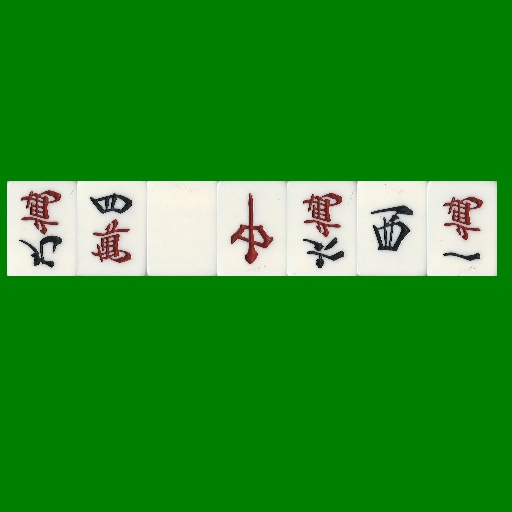1m: (427, 181, 497, 276)
4m: (77, 181, 147, 276)
6m: (287, 181, 357, 276)
9m: (7, 181, 77, 276)
tyun: (217, 181, 287, 276)
west: (357, 181, 427, 276)
white: (147, 181, 217, 276)
